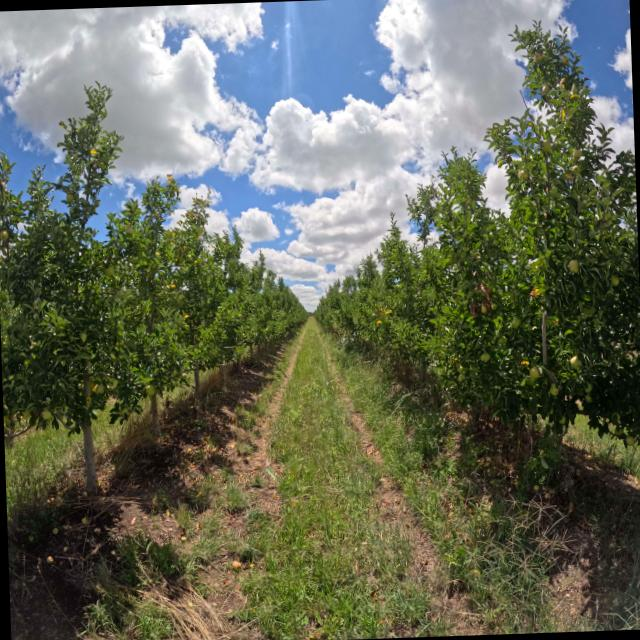-FireBlight-: (470, 282, 492, 320), (486, 274, 492, 282), (472, 283, 478, 290), (472, 271, 479, 275)
